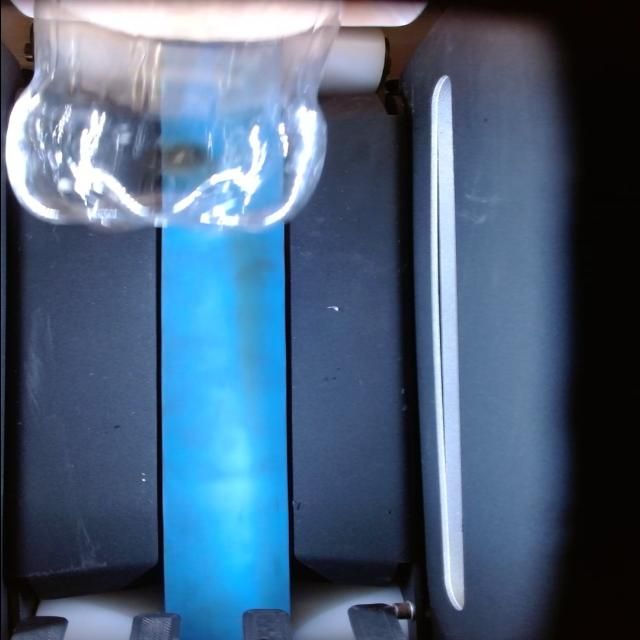bottom: (2, 144, 351, 235)
